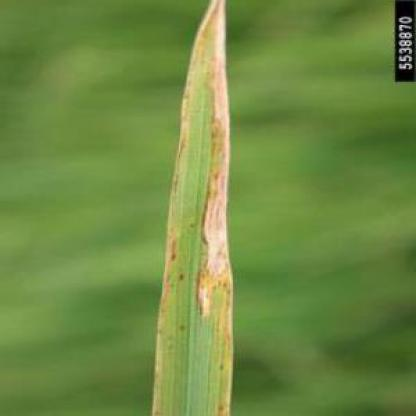Blight: (197, 1, 237, 319)
